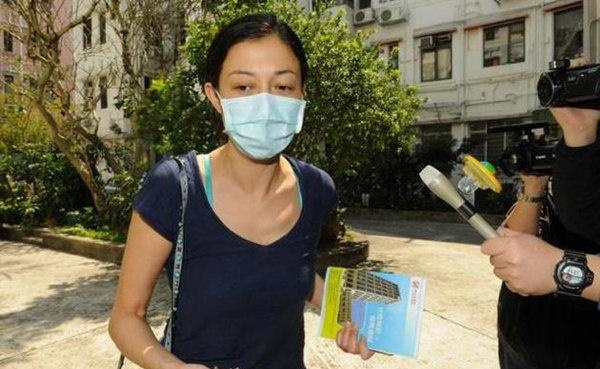Mask: (219, 67, 309, 157)
